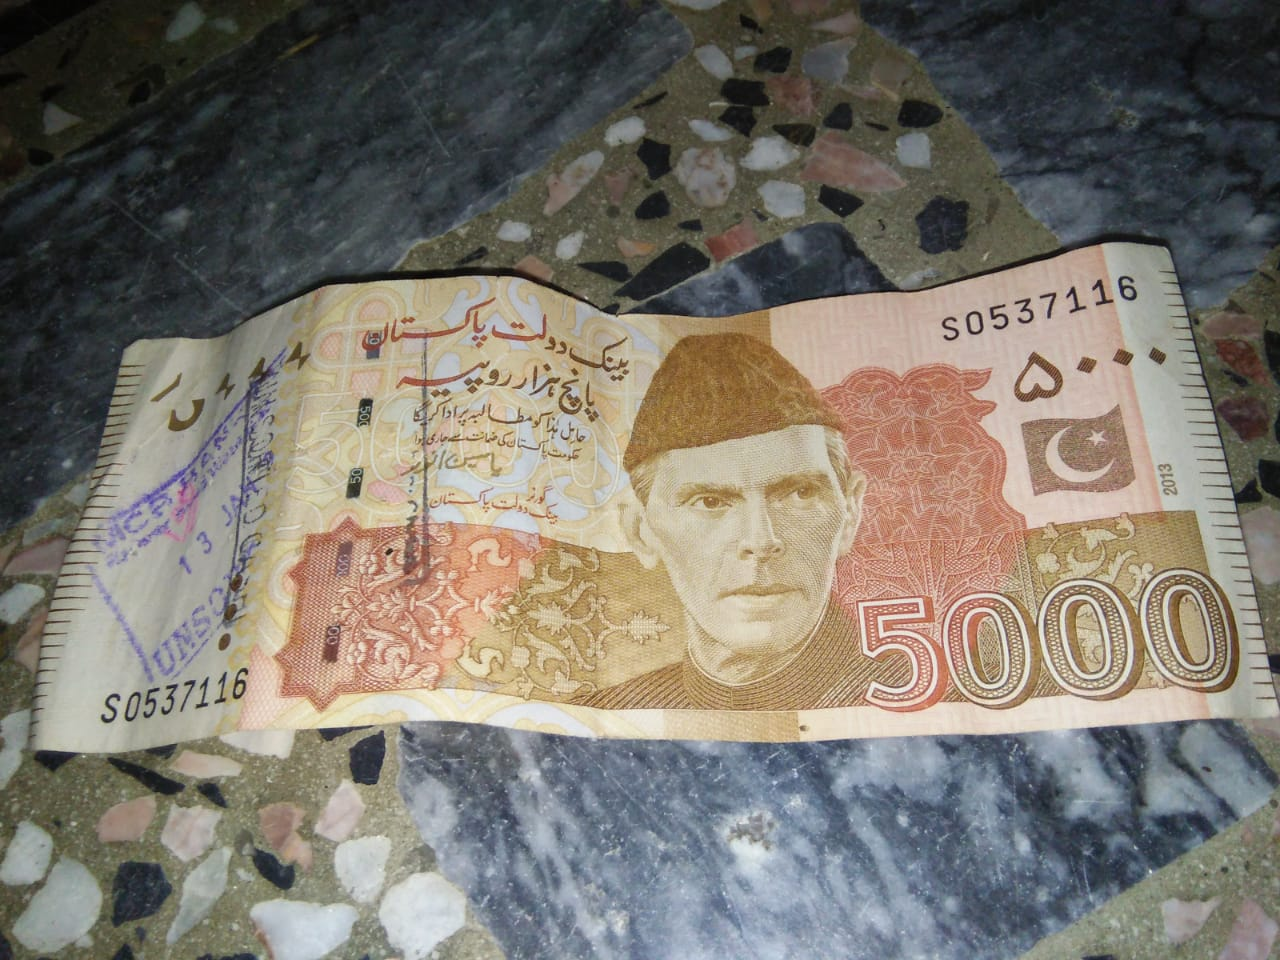5000 rupee: (54, 263, 1269, 799)
